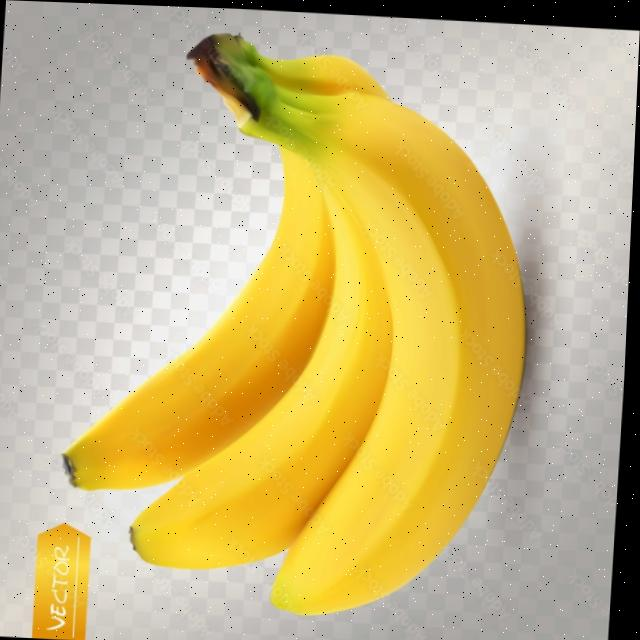Banana: (216, 34, 527, 611), (135, 178, 395, 566), (67, 147, 336, 488)
